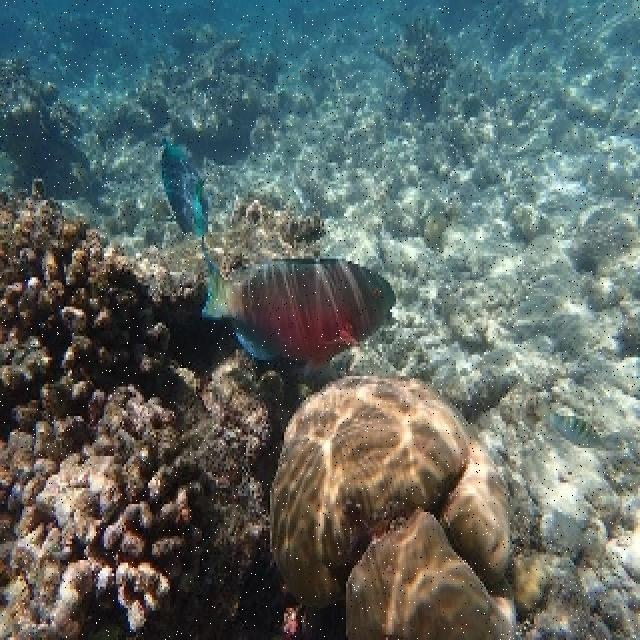fish: (196, 256, 397, 377), (162, 135, 212, 235), (541, 416, 615, 448)
reefs: (0, 178, 286, 637)
sea-floor: (269, 376, 520, 637)
